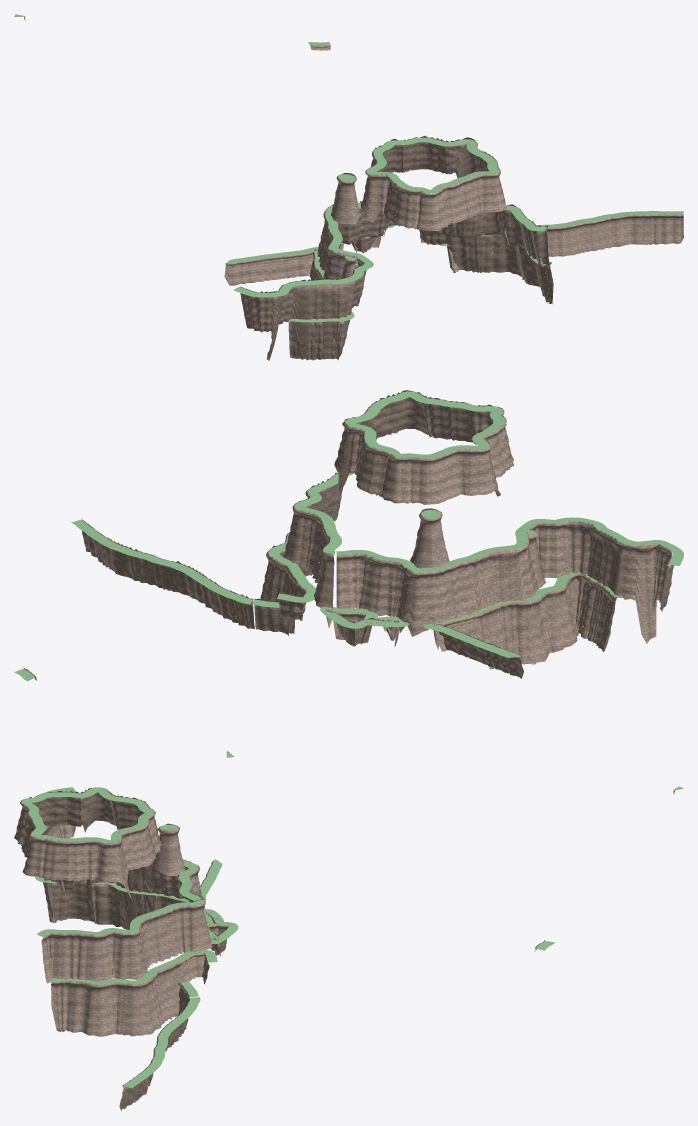
Rendered from CliffWall_plateau_north.glb.
3 renders of one model, top to bottom at view 1: azimuth 30°, elevation 25°; view 2: azimuth 150°, elevation 25°; view 3: azimuth 270°, elevation 25°, orthographic. The views are drawn at different scales.
Parts seen in each view (by area): view 1: CliffWall_plateau_north-rock0, CliffWall_plateau_north-rock4, CliffWall_plateau_north-rock11, CliffWall_plateau_north-rock9, CliffWall_plateau_north-rock7, CliffWall_plateau_north-rock3, CliffWall_plateau_north-lip0, CliffWall_plateau_north-lip4, CliffWall_plateau_north-rock1, CliffWall_plateau_north-lip7, CliffWall_plateau_north-lip11; view 2: CliffWall_plateau_north-rock4, CliffWall_plateau_north-rock0, CliffWall_plateau_north-rock7, CliffWall_plateau_north-rock11, CliffWall_plateau_north-rock3, CliffWall_plateau_north-lip0, CliffWall_plateau_north-lip4, CliffWall_plateau_north-rock9, CliffWall_plateau_north-rock1, CliffWall_plateau_north-lip11, CliffWall_plateau_north-lip7, CliffWall_plateau_north-rock8 (+4 smaller); view 3: CliffWall_plateau_north-rock0, CliffWall_plateau_north-rock3, CliffWall_plateau_north-rock9, CliffWall_plateau_north-rock4, CliffWall_plateau_north-rock7, CliffWall_plateau_north-lip0, CliffWall_plateau_north-rock1, CliffWall_plateau_north-lip11, CliffWall_plateau_north-rock11, CliffWall_plateau_north-lip9, CliffWall_plateau_north-lip3, CliffWall_plateau_north-lip7 (+2 smaller).
Part boxes in pixels (x1,y1,x2,y2): CliffWall_plateau_north-rock0: (360,136,506,230); CliffWall_plateau_north-rock4: (240,201,389,360); CliffWall_plateau_north-rock11: (547,213,683,256); CliffWall_plateau_north-rock9: (419,230,553,303); CliffWall_plateau_north-rock7: (224,249,346,360); CliffWall_plateau_north-rock3: (388,193,549,267); CliffWall_plateau_north-lip0: (366,137,499,193); CliffWall_plateau_north-lip4: (233,202,373,297); CliffWall_plateau_north-rock1: (330,173,360,224); CliffWall_plateau_north-lip7: (227,247,354,322); CliffWall_plateau_north-lip11: (536,211,683,227); CliffWall_plateau_north-rock4: (336,520,674,654); CliffWall_plateau_north-rock0: (334,390,513,504); CliffWall_plateau_north-rock7: (433,573,615,678); CliffWall_plateau_north-rock11: (81,518,254,628); CliffWall_plateau_north-rock3: (283,473,342,608); CliffWall_plateau_north-lip0: (345,391,504,458); CliffWall_plateau_north-lip4: (336,517,683,572); CliffWall_plateau_north-rock9: (260,532,312,635); CliffWall_plateau_north-rock1: (410,508,449,568); CliffWall_plateau_north-lip11: (71,519,252,604); CliffWall_plateau_north-lip7: (423,572,622,657); CliffWall_plateau_north-rock8: (326,607,399,646); CliffWall_plateau_north-rock0: (14,787,161,900); CliffWall_plateau_north-rock3: (41,899,212,983); CliffWall_plateau_north-rock9: (51,953,209,1036); CliffWall_plateau_north-rock4: (41,790,205,922); CliffWall_plateau_north-rock7: (43,859,215,929); CliffWall_plateau_north-lip0: (21,787,154,843); CliffWall_plateau_north-rock1: (152,823,185,876); CliffWall_plateau_north-lip11: (124,997,200,1088); CliffWall_plateau_north-rock11: (119,998,190,1110); CliffWall_plateau_north-lip9: (50,949,217,984); CliffWall_plateau_north-lip3: (36,899,203,936); CliffWall_plateau_north-lip7: (35,860,222,902).
Bounding box in the file's own units: 2111 × 682 × 2488.
Materials: 4 (1 with a texture image).
